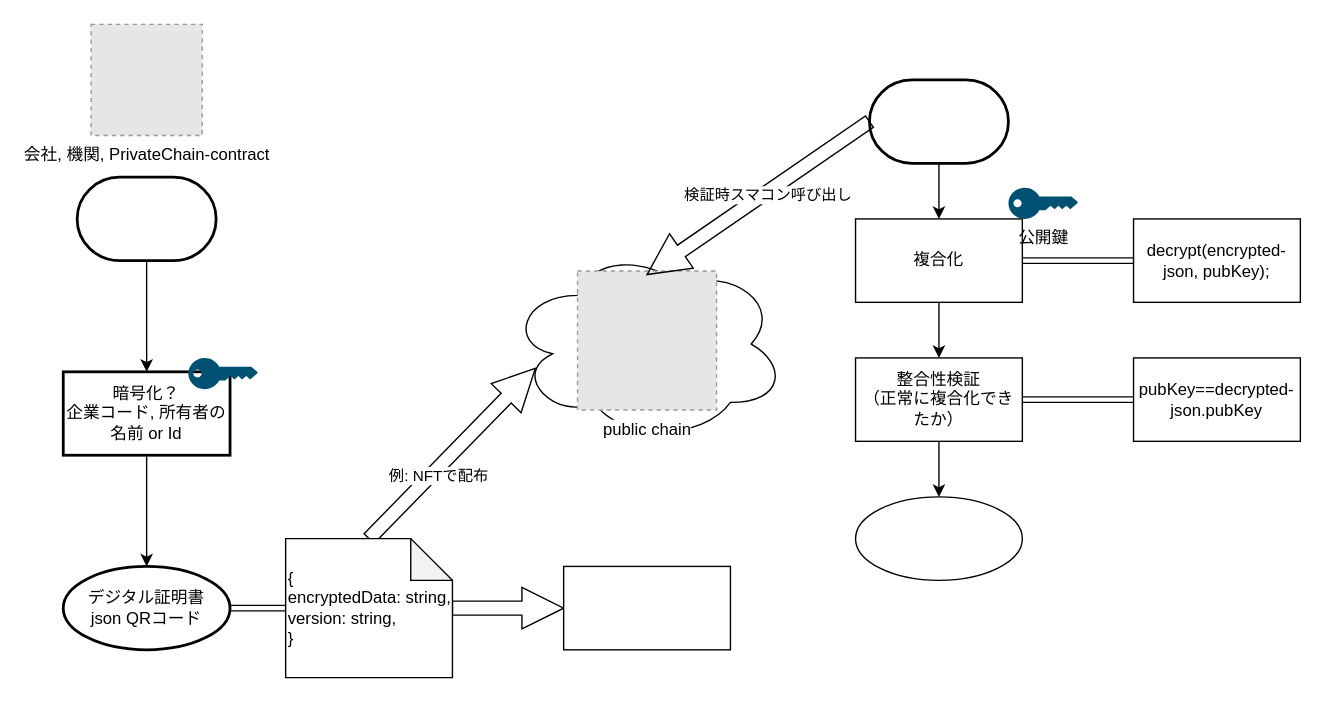
Image size: 1325x702. Some labels were removed from this diagram. Grey dashed boxes stand in for pictures. The shapes that lost their labels are listed below. From the top down, each one's box as (x1, y1, x2, y2) in pixels, then its label:
(867, 78, 1009, 164): 署名確認contruct args: json or nft
(75, 175, 217, 261): 電子署名
(188, 357, 257, 389): 秘密鍵
(854, 496, 1022, 580): 複合化した値: string or 検証結果: bool
(562, 565, 730, 650): # 証明書発行例 - QRコード配布印刷 - jsonで配布 - NFTで配布
